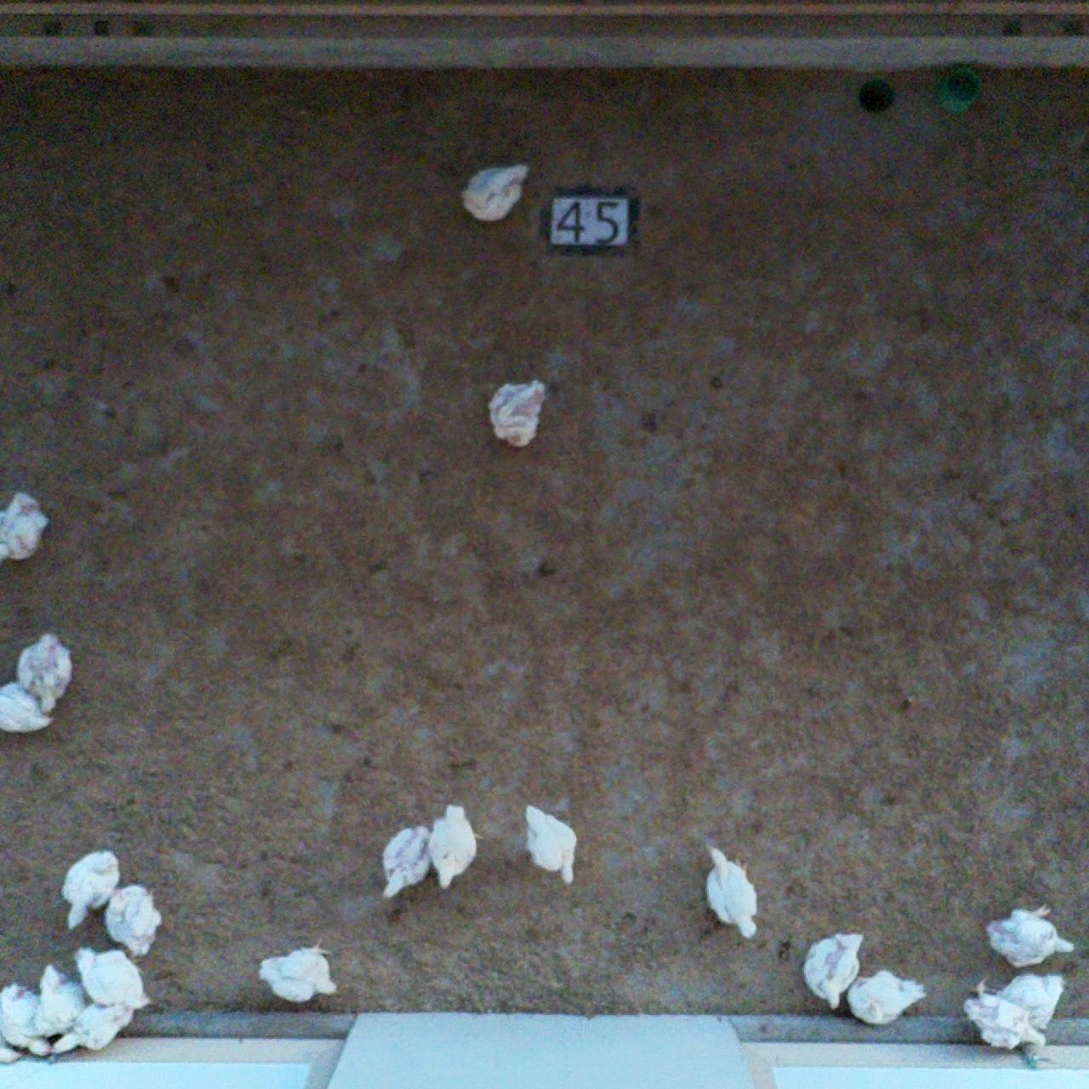chicken: (480, 374, 562, 468), (441, 157, 541, 232), (984, 899, 1077, 978), (691, 841, 760, 945), (362, 811, 432, 906), (950, 995, 1058, 1053), (416, 803, 486, 891), (57, 841, 122, 935), (790, 931, 865, 1012), (522, 800, 584, 893), (11, 638, 81, 717), (0, 477, 55, 574), (261, 947, 336, 1016), (845, 970, 924, 1033), (76, 943, 149, 1010), (985, 970, 1075, 1024), (0, 682, 77, 742), (52, 1001, 135, 1053), (108, 885, 162, 964), (29, 963, 86, 1035), (0, 983, 51, 1057), (0, 1043, 24, 1071)
